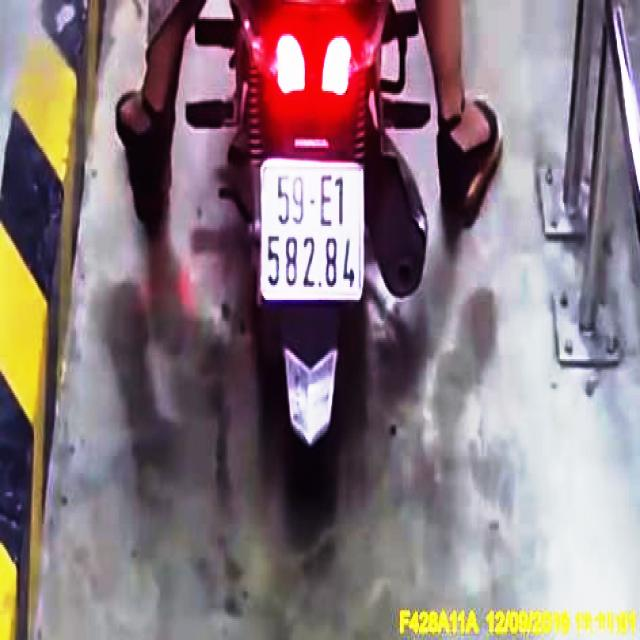license_plate: (263, 164, 364, 296)
